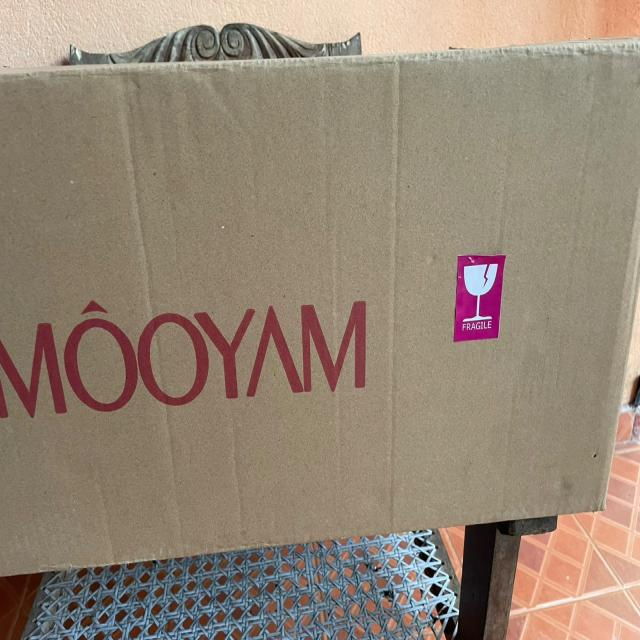carton_box: (0, 32, 640, 582)
fragile_label: (445, 239, 516, 351)
